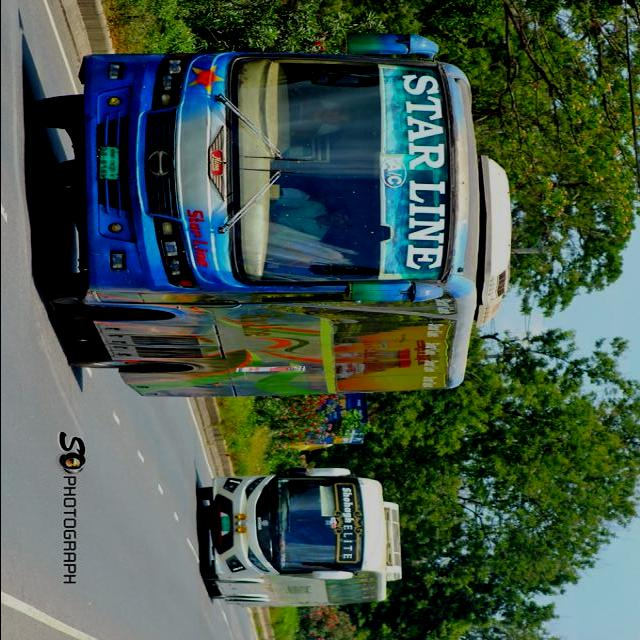bus: (30, 32, 512, 400), (198, 468, 403, 609)
